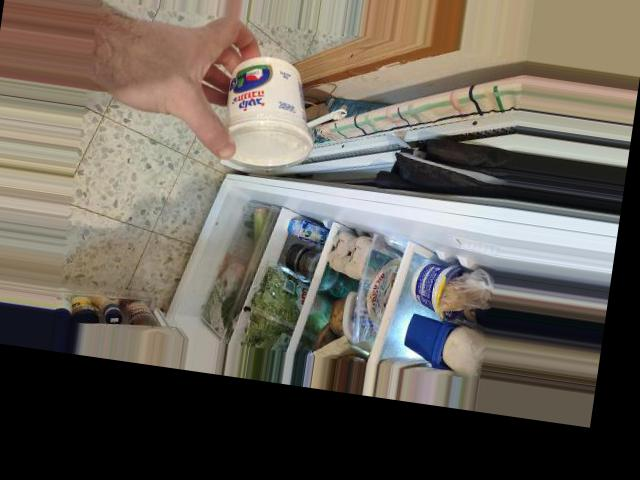cotage: (200, 45, 327, 178)
